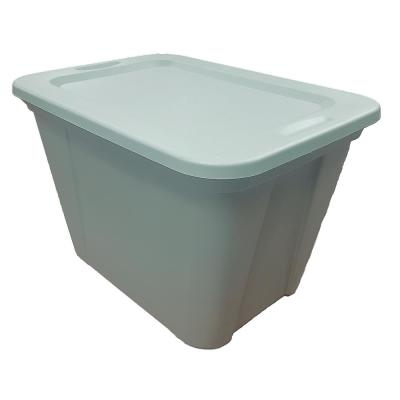PlasticBox: (10, 51, 382, 353)
